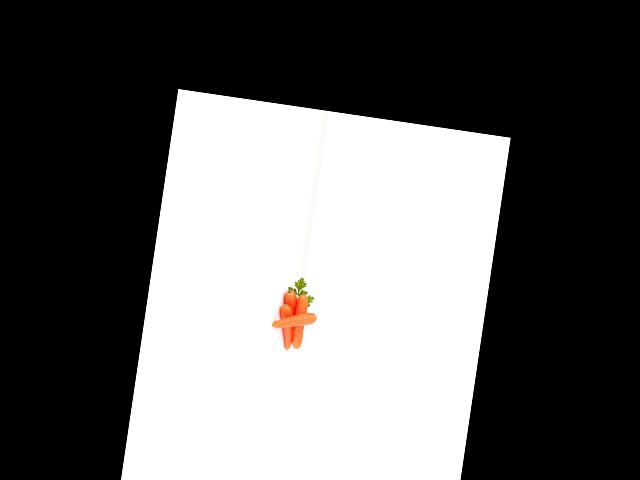carrot: (276, 289, 301, 342)
